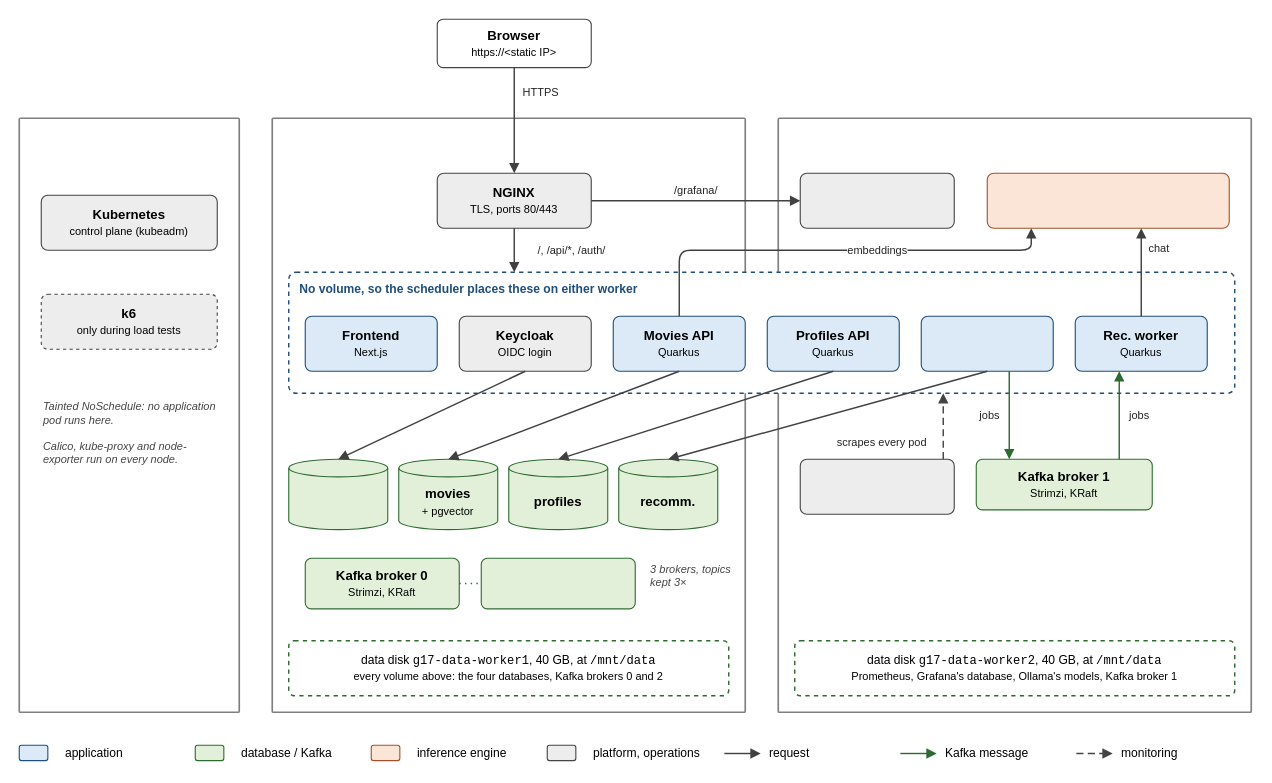
This 1272x783 diagram has some shape labels left out. The shapes that lost their labels are listed below. From the top down, each one's box as (x1, y1, x2, y2) in pixels, then its label:
(799, 172, 954, 228): Grafana dashboard Movies
(986, 172, 1229, 228): Ollama qwen2.5:3b, nomic-embed-text
(920, 315, 1053, 371): Recomm. API Quarkus
(18, 117, 240, 713): master e2-standard-2 · control plane
(271, 117, 746, 713): worker1 e2-standard-4 · edge node, static IP
(777, 117, 1252, 713): worker2 e2-standard-4
(288, 458, 388, 530): keycloak
(799, 458, 954, 514): Prometheus 7 days of history
(480, 557, 635, 609): Kafka broker 2 Strimzi, KRaft
